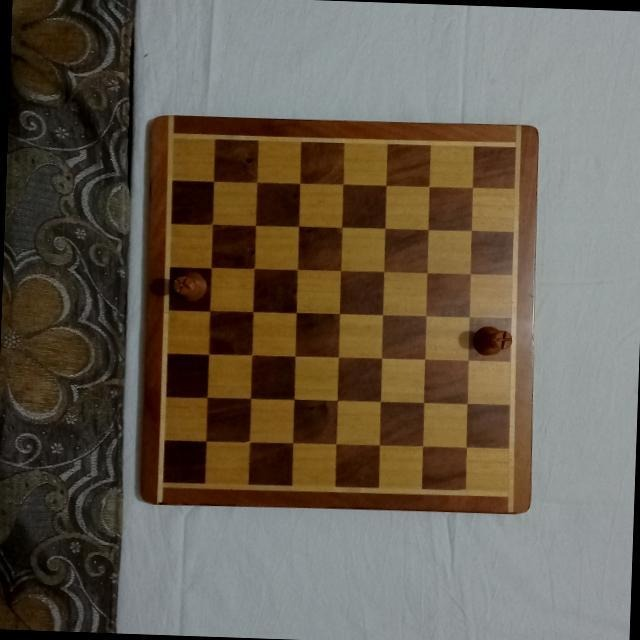white-rook: (470, 325, 514, 358), (167, 269, 209, 303)
